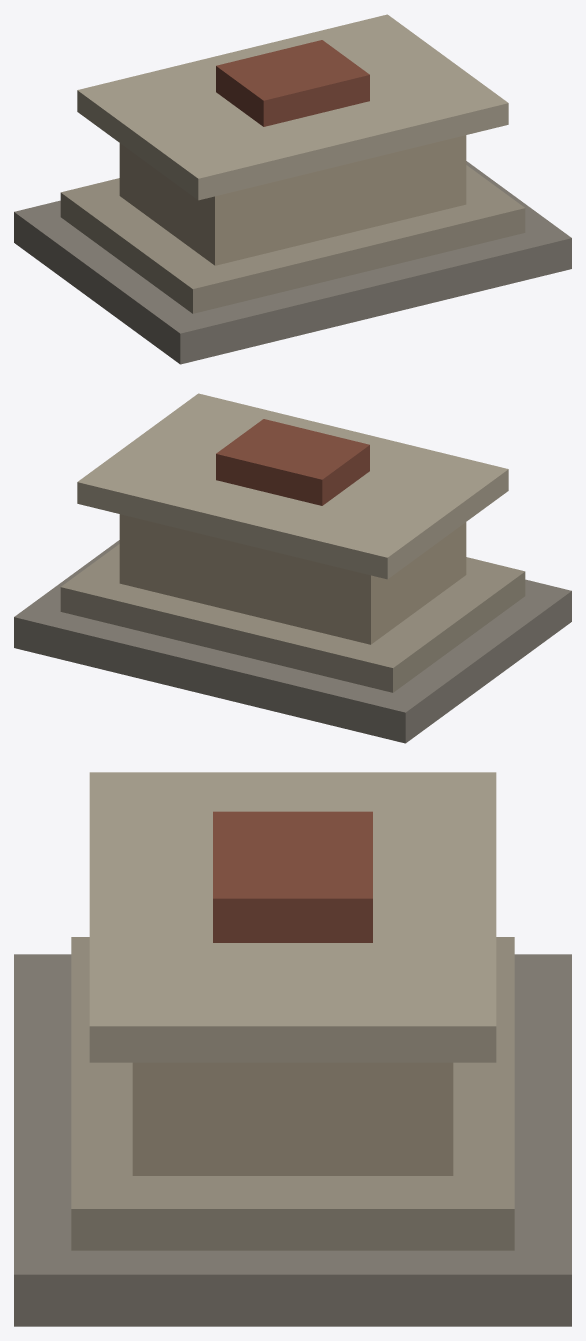
The model's file is Dungeon_Altar.fbx.
The picture shows the model from 3 angles, top to bottom: view 1: azimuth 30°, elevation 25°; view 2: azimuth 150°, elevation 25°; view 3: azimuth 270°, elevation 25°; orthographic projection. The views are drawn at different scales.
Visible parts, largest first — view 1: Dungeon_Altar; view 2: Dungeon_Altar; view 3: Dungeon_Altar.
Part boxes in pixels (bbox=[...]): Dungeon_Altar: bbox=[14, 14, 571, 364]; Dungeon_Altar: bbox=[14, 393, 571, 743]; Dungeon_Altar: bbox=[14, 772, 571, 1326].
Bounding box in the file's own units: 2.65 × 1.2 × 1.95.
